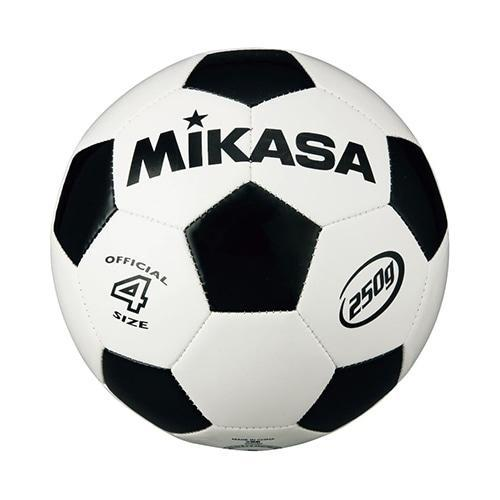Sports-Ball: (44, 48, 452, 456)
